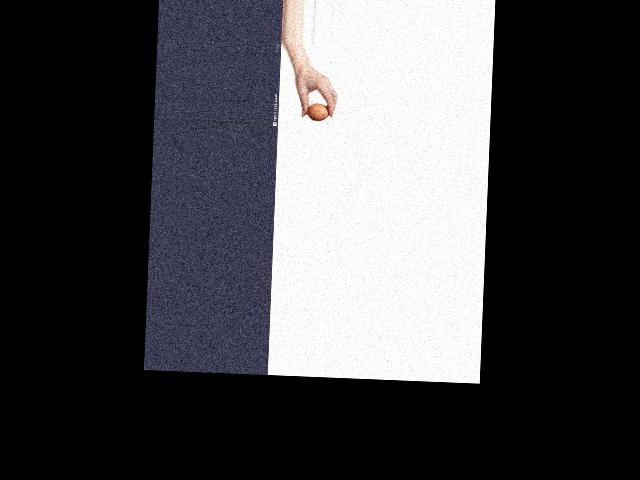egg: (306, 101, 329, 121)
